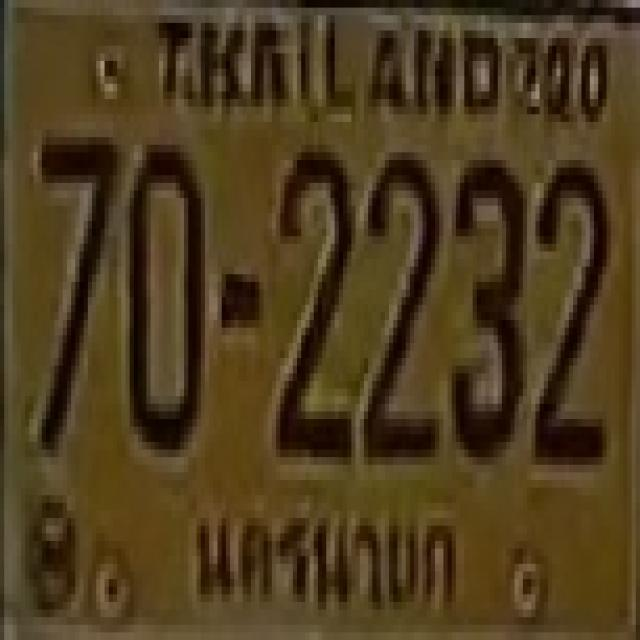0: (125, 137, 201, 442)
2: (276, 141, 351, 453), (360, 145, 435, 457), (531, 152, 607, 458)
3: (447, 153, 523, 450)
7: (38, 129, 113, 442), (38, 130, 113, 412)
NYK: (182, 493, 469, 615)
